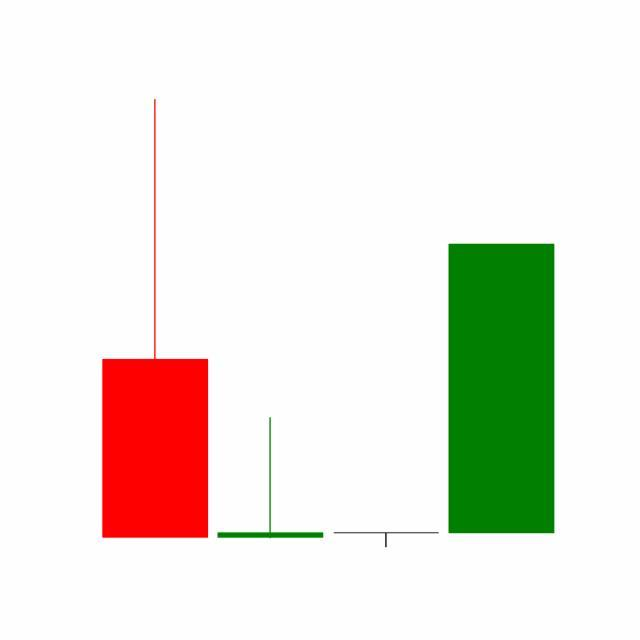Hammer: (329, 532, 445, 548)
